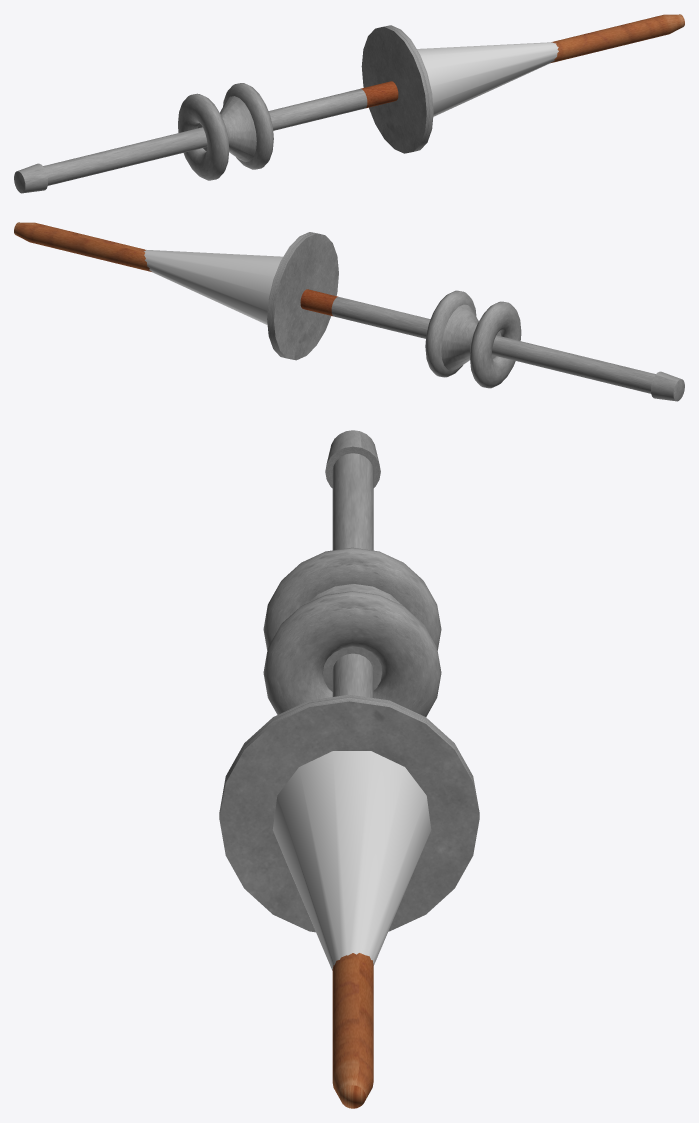
File: CharkhaSpindle.fbx
The picture shows the model from 3 angles, top to bottom: view 1: azimuth 30°, elevation 25°; view 2: azimuth 150°, elevation 25°; view 3: azimuth 270°, elevation 25°; orthographic projection. The views are drawn at different scales.
Parts seen in each view (by area): view 1: pCone2; view 2: pCone2; view 3: pCone2.
Boxes of the visible parts, x1=… form: pCone2: x1=14, y1=14, x2=684, y2=193; pCone2: x1=14, y1=222, x2=684, y2=401; pCone2: x1=219, y1=430, x2=479, y2=1108.
Size of the model in its own units: 6.72 by 1.14 by 1.14.
